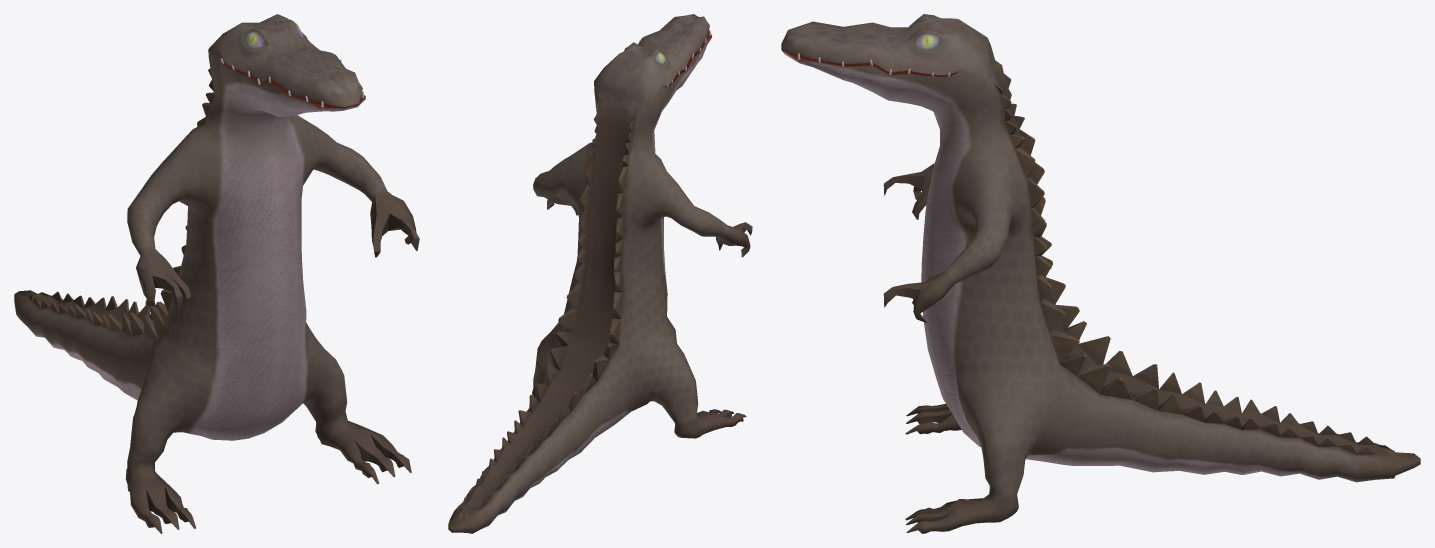
Rendered from gator_withoutanim.glb.
3 renders of one model, left to right at view 1: azimuth 30°, elevation 25°; view 2: azimuth 150°, elevation 25°; view 3: azimuth 270°, elevation 25°, orthographic. The views are drawn at different scales.
Visible parts, largest first — view 1: gator; view 2: gator; view 3: gator.
Boxes of the visible parts, x1=… form: gator: x1=14, y1=14, x2=419, y2=533; gator: x1=448, y1=14, x2=752, y2=533; gator: x1=781, y1=14, x2=1420, y2=533.
Bounding box in the file's own units: 1.16 × 1.95 × 2.48.
Materials: 1 (1 with a texture image).
